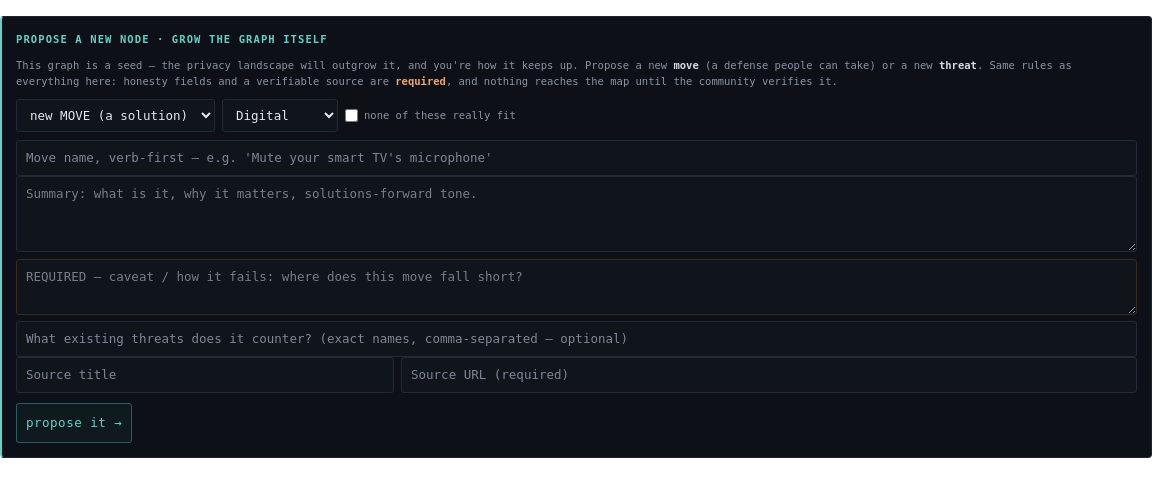
Test case: ProposeNode › shows the 'Proposals so far' trail after a successful submit
Type "My proposal node" into the field with placeholder "Move name, verb-first" at (576, 158), box x1=16 y1=140 x2=1137 y2=176
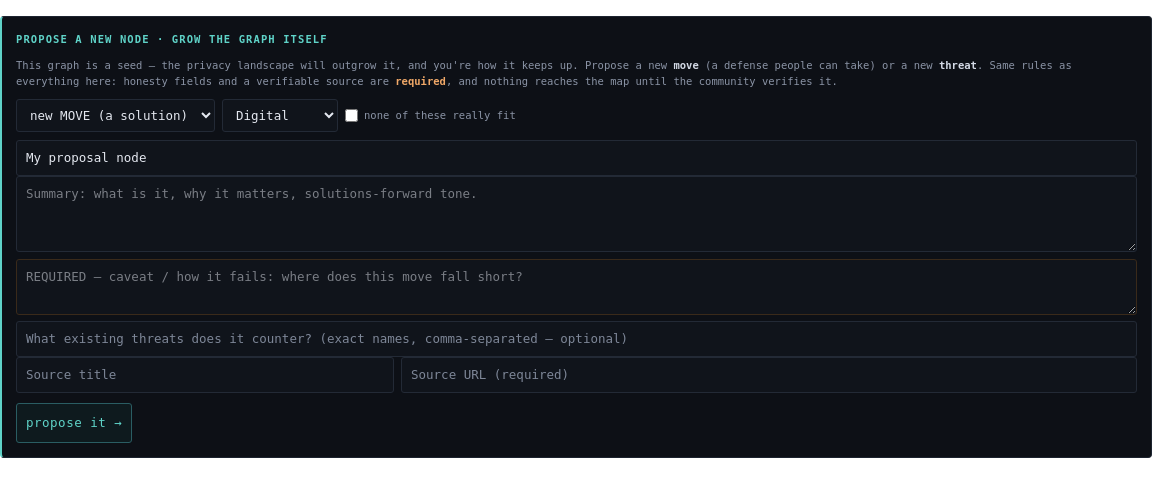
Type "A perfectly reasonable proposal summary that is long enough to clear the validation gate." into the text box with placeholder "Summary: what is it" at (576, 214), box x1=16 y1=176 x2=1137 y2=252
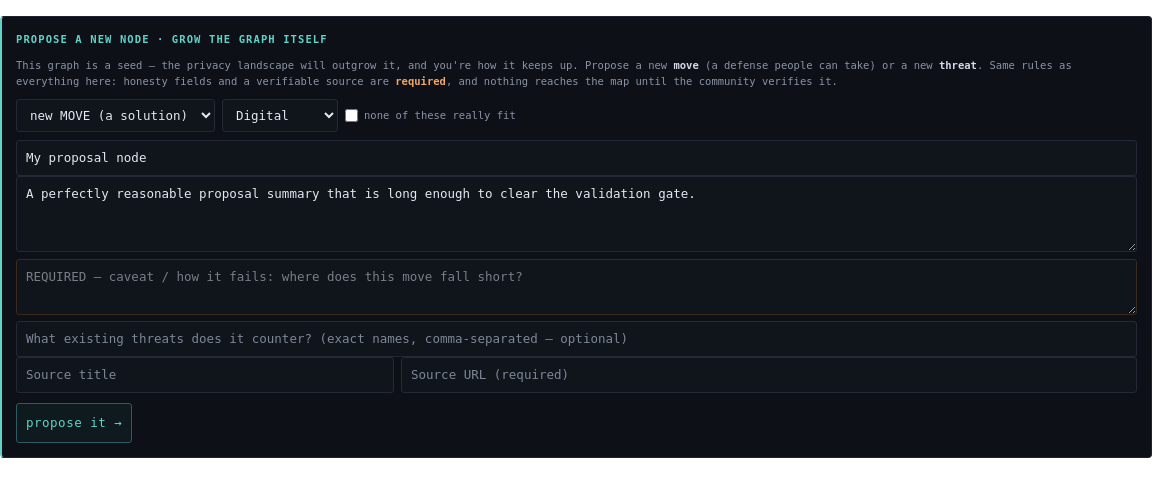
Type "Caveat: this only helps in the specific scenario described above." into the text box with placeholder "REQUIRED — caveat" at (576, 287), box x1=16 y1=259 x2=1137 y2=315
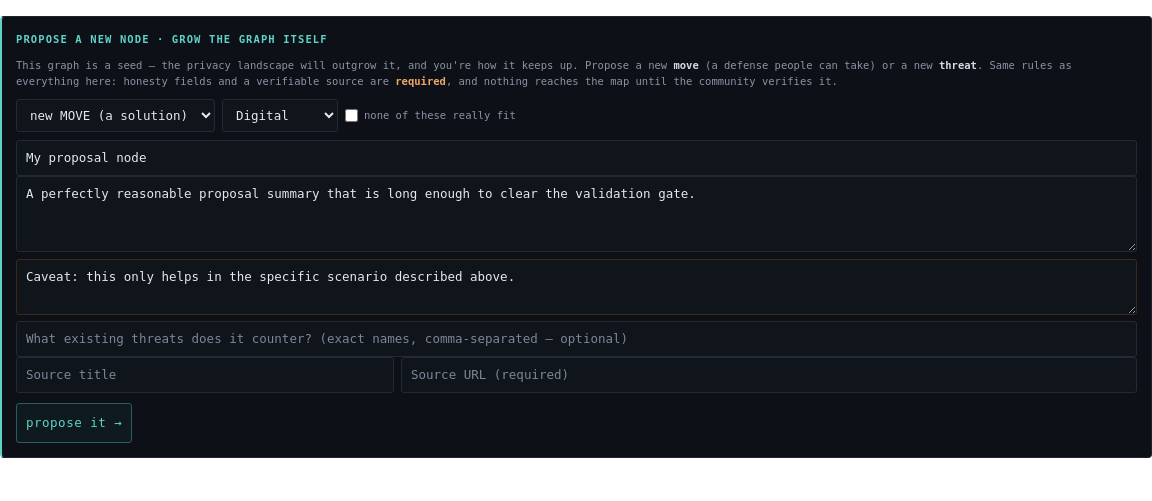
Type "https://example.com/proposal" into the field with placeholder "Source URL (required)" at (769, 375), box x1=401 y1=357 x2=1137 y2=393
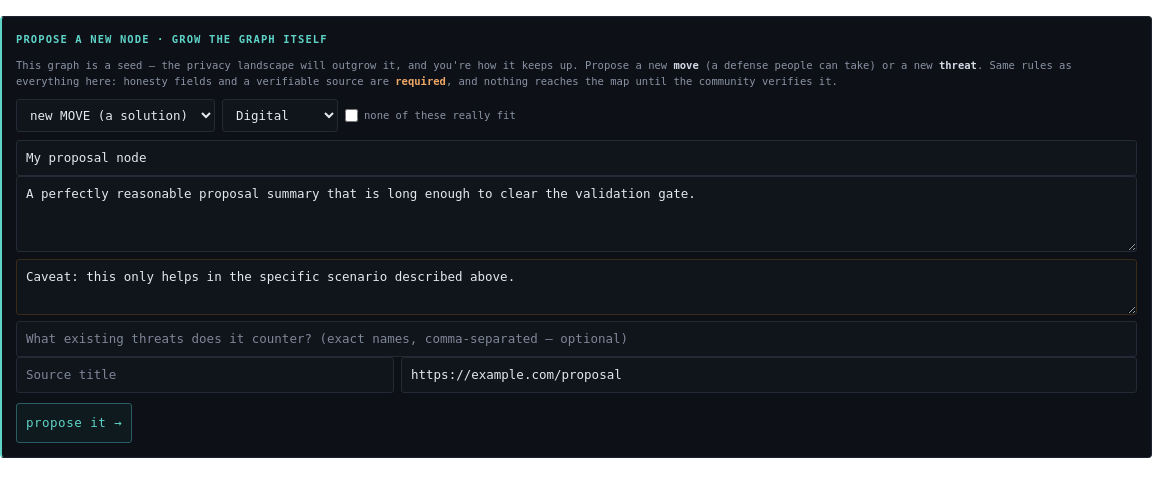
Click the button "propose it →" at (74, 423), box x1=16 y1=403 x2=132 y2=443
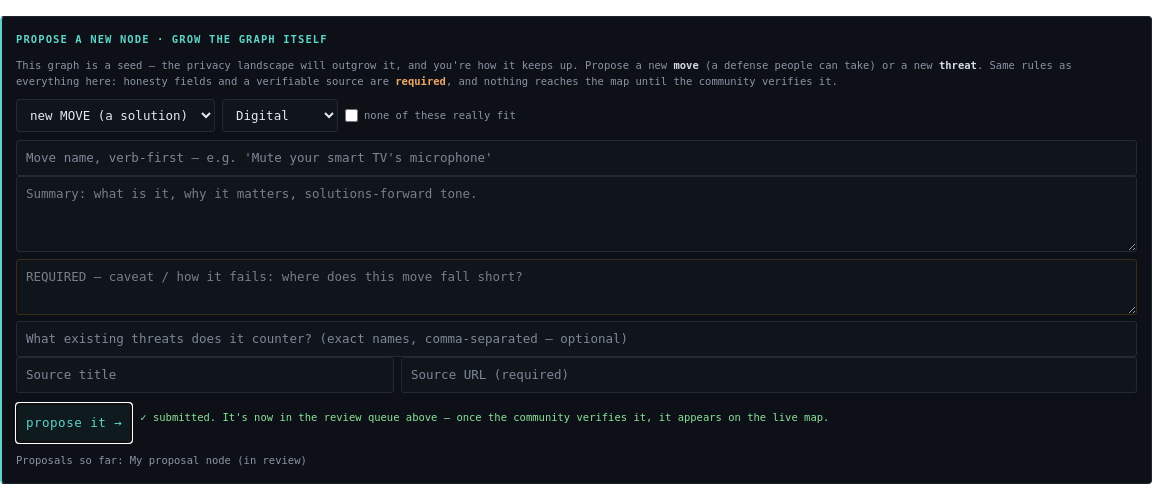
Expected: the text "Proposals so far: My proposal node (in review)" is shown, x1=16 y1=454 x2=307 y2=466
